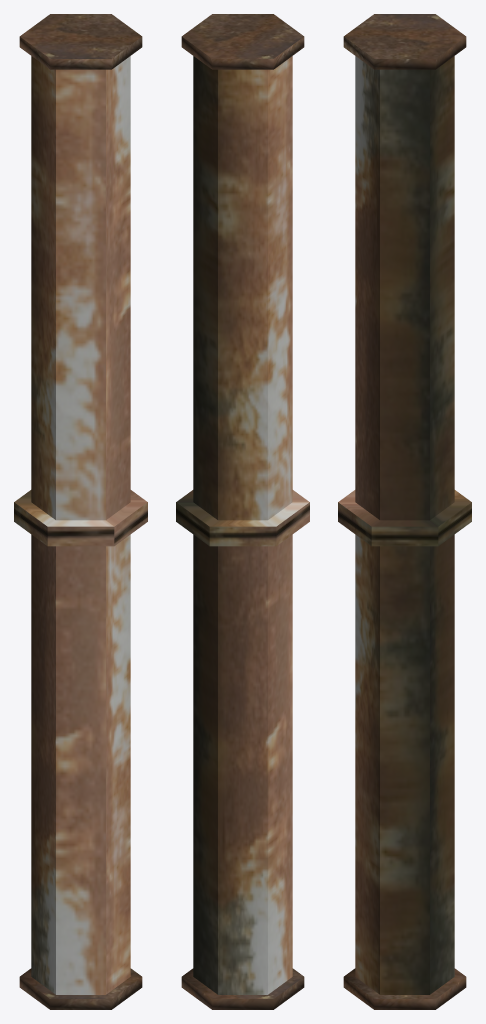
The model's file is Pipe1.fbx.
3 views of the same model, side by side, from view 1: azimuth 90°, elevation 25°; view 2: azimuth 150°, elevation 25°; view 3: azimuth 270°, elevation 25° (orthographic).
Visible parts, largest first — view 1: BigPipeClosedAlt; view 2: BigPipeClosedAlt; view 3: BigPipeClosedAlt.
Part boxes in pixels (bbox=[...]): BigPipeClosedAlt: bbox=[14, 14, 147, 1009]; BigPipeClosedAlt: bbox=[176, 14, 309, 1009]; BigPipeClosedAlt: bbox=[338, 14, 471, 1009].
Size of the model in its own units: 233 by 2109 by 269.
